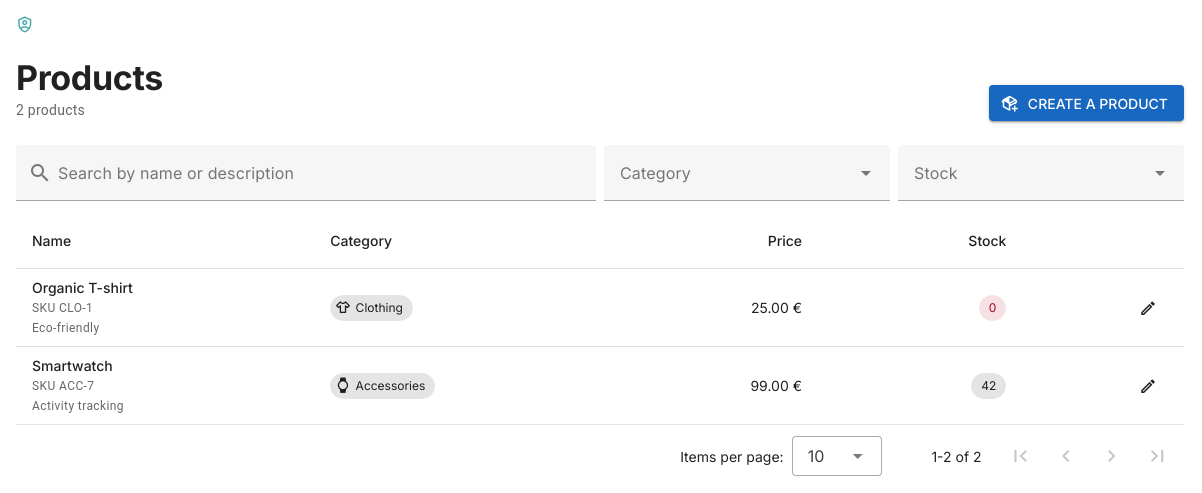
AdminProducts.vue › tells when no product matches the filters
In the field labelled "Search by name or description": (318, 173) [52,145,584,201], type "no such product"
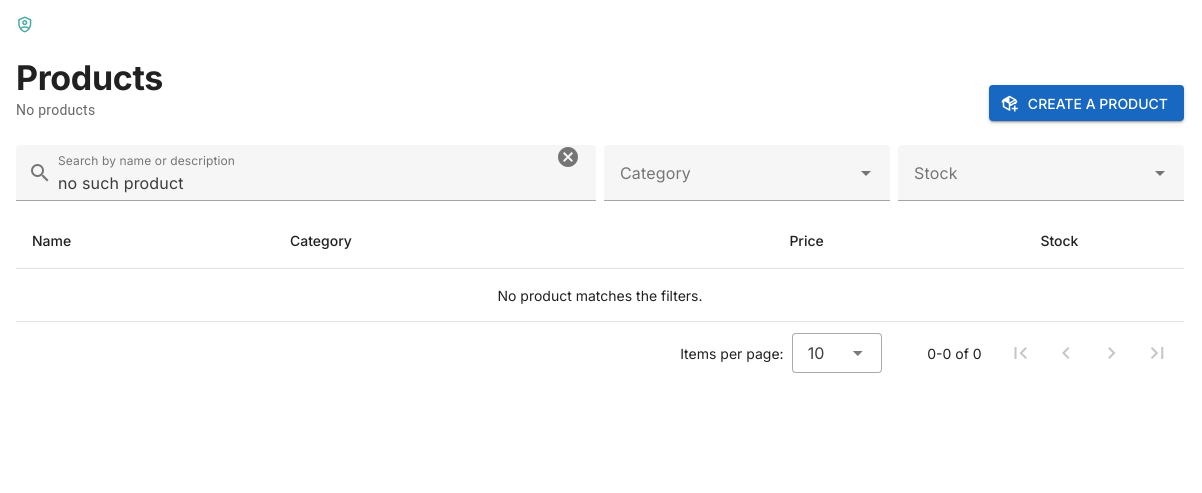
Result: the text "No product matches the filters." is shown at [16,269,1184,321]
